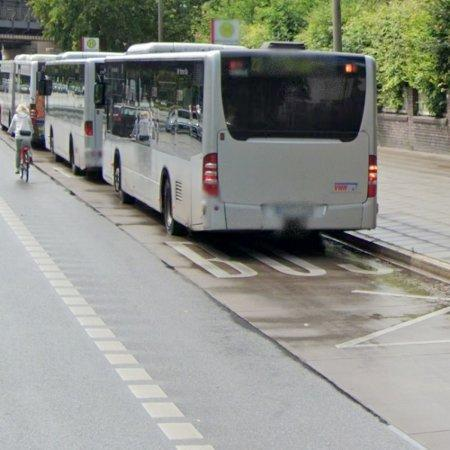buses: (103, 43, 379, 233)
